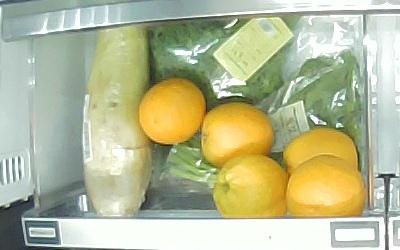orange: (286, 155, 366, 218), (213, 155, 290, 218), (201, 102, 274, 167), (139, 78, 205, 144), (283, 128, 357, 170)
